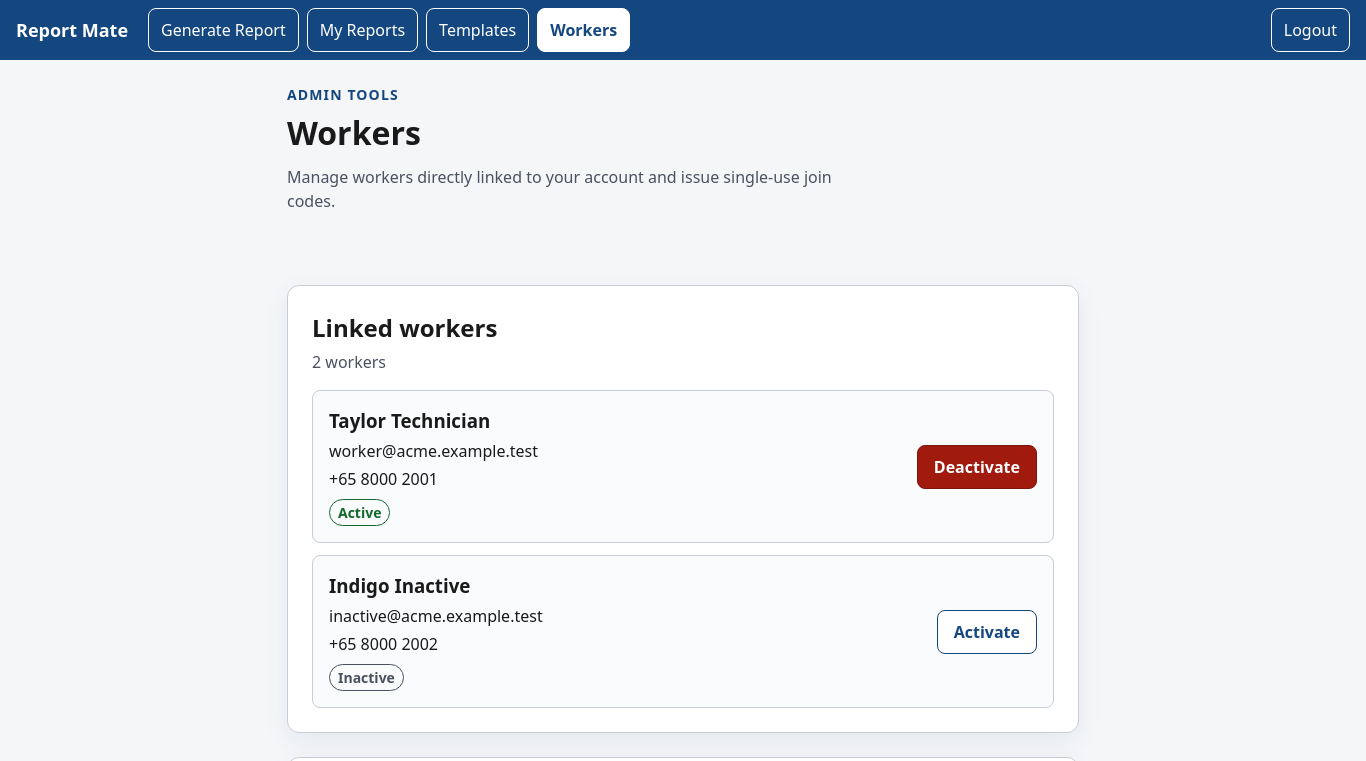
Test case: WorkerManagementPage › announces and focuses worker action failures
The image size is (1366, 761).
Expected: the heading "Taylor Technician" is shown, [329,408,490,433]
Click the button with aria-label "Deactivate Taylor Technician" at (977, 466), box [917,444,1037,488]
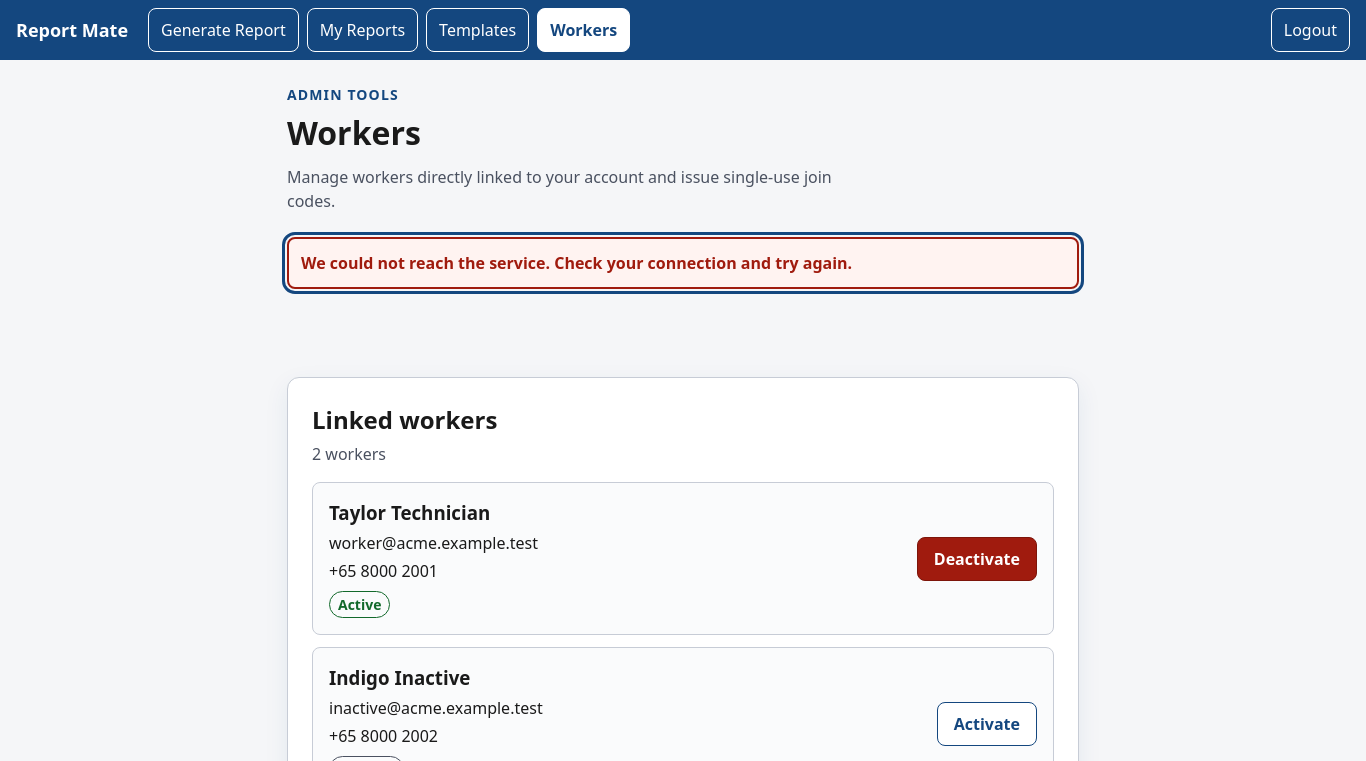
Result: the message "We could not reach the service. Check your connection and try again." is shown at [287,237,1079,289]
